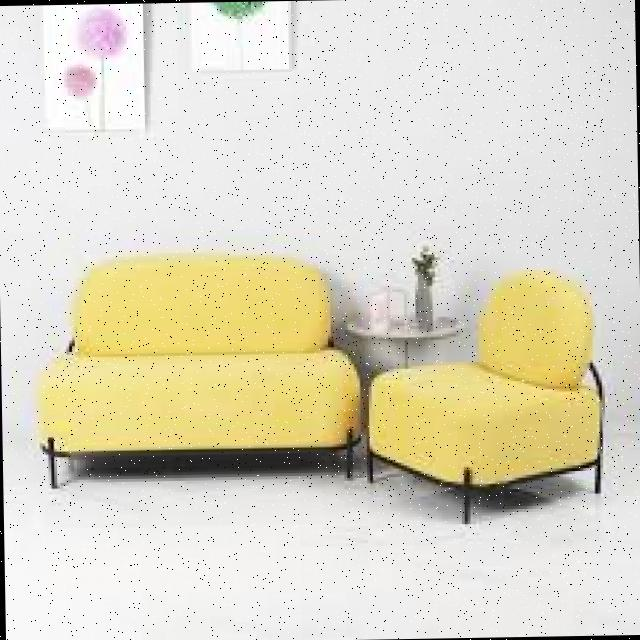Sofa: (25, 235, 372, 524), (354, 227, 628, 533)
